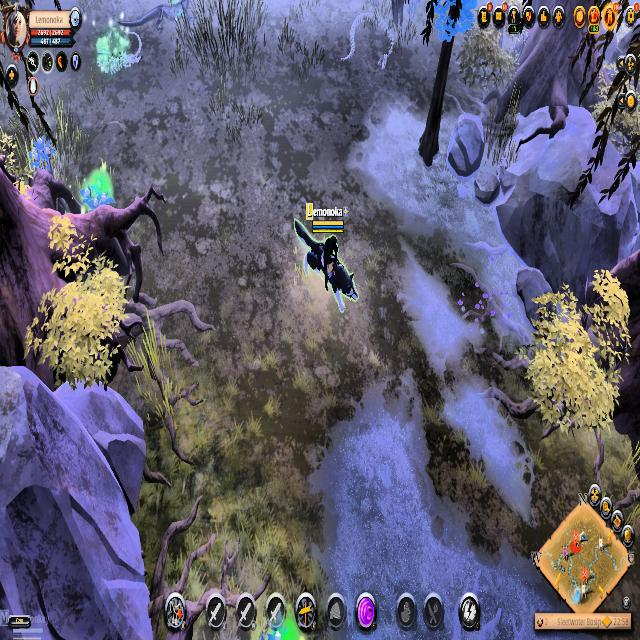fiber tier 4: (30, 131, 55, 171)
